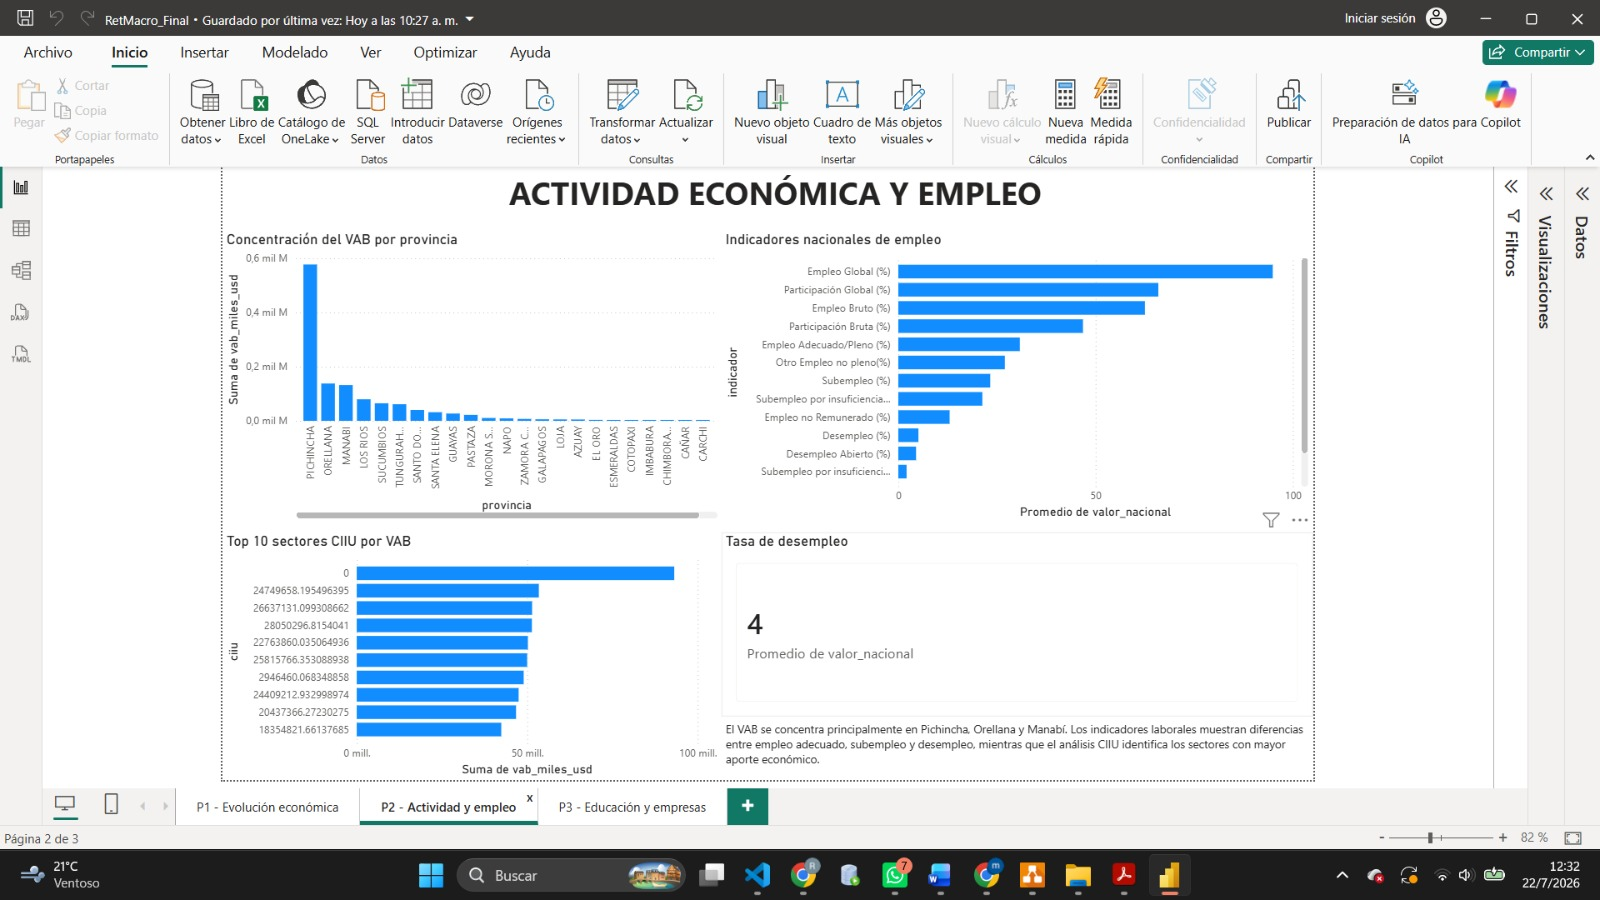

What the dashboard file says about the page in this screenshot:
{"tool":"powerbi","page":{"name":"P2 - Actividad y empleo","canvas":[1280,720],"ordinal":1},"visuals":[{"type":"clusteredColumnChart","title":"Concentración del VAB por provincia","fields":{"Category":["dim_geografia.provincia"],"Y":["Sum(fact_vab.vab_miles_usd)"]},"box":[0,75,586.2,343.8],"z":0},{"type":"textbox","box":[18.8,0,1261.2,61.2],"z":1000},{"type":"clusteredBarChart","title":"Indicadores nacionales de empleo","fields":{"Category":["fact_empleo.indicador"],"Y":["Avg(fact_empleo.valor_nacional)"]},"box":[591.9,74.6,688.5,343.6],"z":2000},{"type":"cardVisual","title":"Tasa de desempleo actual","fields":{"Data":["fact_empleo.Tasa desempleo reciente texto"]},"box":[840.1,442.7,211.6,188.3],"z":3000},{"type":"textbox","box":[587,645.7,693.3,74.6],"z":4000},{"type":"clusteredBarChart","title":"Top 10 sectores por número de empresas activas","fields":{"Category":["gold_empresas_ciiu.Nombre sector"],"Y":["Sum(gold_empresas_ciiu.total_empresas)"]},"box":[0,429.2,585.7,291],"z":5000},{"type":"cardVisual","title":"Variación frente al periodo anterior","fields":{"Data":["fact_empleo.Cambio desempleo texto"]},"box":[1070,442.7,198.1,188.3],"z":6000},{"type":"cardVisual","title":"Tasa de desempleo anterior","fields":{"Data":["fact_empleo.Tasa desempleo anterior texto"]},"box":[591.9,442.7,236,188.3],"z":7000}]}

Visuals, with their boxes on the page's 1280x720 design canvas (x1, y1, x2, y2). These are canvas units, not pixel positions in the 1600x900 screenshot, which may show the page scaled, cropped or inside an application window:
"Concentración del VAB por provincia" clusteredColumnChart: {"x1": 0, "y1": 75, "x2": 586, "y2": 419}
textbox: {"x1": 19, "y1": 0, "x2": 1280, "y2": 61}
"Indicadores nacionales de empleo" clusteredBarChart: {"x1": 592, "y1": 75, "x2": 1280, "y2": 418}
"Tasa de desempleo actual" cardVisual: {"x1": 840, "y1": 443, "x2": 1052, "y2": 631}
textbox: {"x1": 587, "y1": 646, "x2": 1280, "y2": 720}
"Top 10 sectores por número de empresas activas" clusteredBarChart: {"x1": 0, "y1": 429, "x2": 586, "y2": 720}
"Variación frente al periodo anterior" cardVisual: {"x1": 1070, "y1": 443, "x2": 1268, "y2": 631}
"Tasa de desempleo anterior" cardVisual: {"x1": 592, "y1": 443, "x2": 828, "y2": 631}
